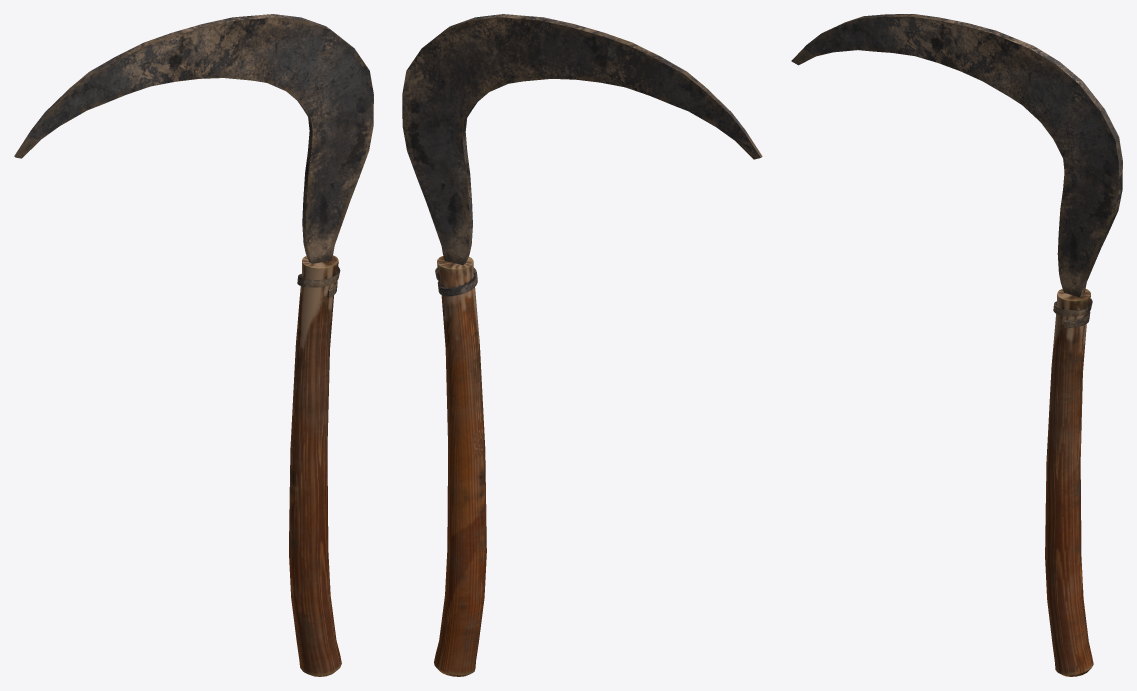
The model's file is Sickle_0.glb.
3 renders of one model, left to right at view 1: azimuth 30°, elevation 25°; view 2: azimuth 150°, elevation 25°; view 3: azimuth 330°, elevation 25°, orthographic. The views are drawn at different scales.
Parts seen in each view (by area): view 1: SM_Sickle; view 2: SM_Sickle; view 3: SM_Sickle.
Part boxes in pixels (bbox=[...]): SM_Sickle: bbox=[14, 14, 373, 676]; SM_Sickle: bbox=[402, 14, 762, 676]; SM_Sickle: bbox=[791, 14, 1122, 676].
Bounding box in the file's own units: 0.1934 × 0.3487 × 0.0196.
1 material, 1 textured.
